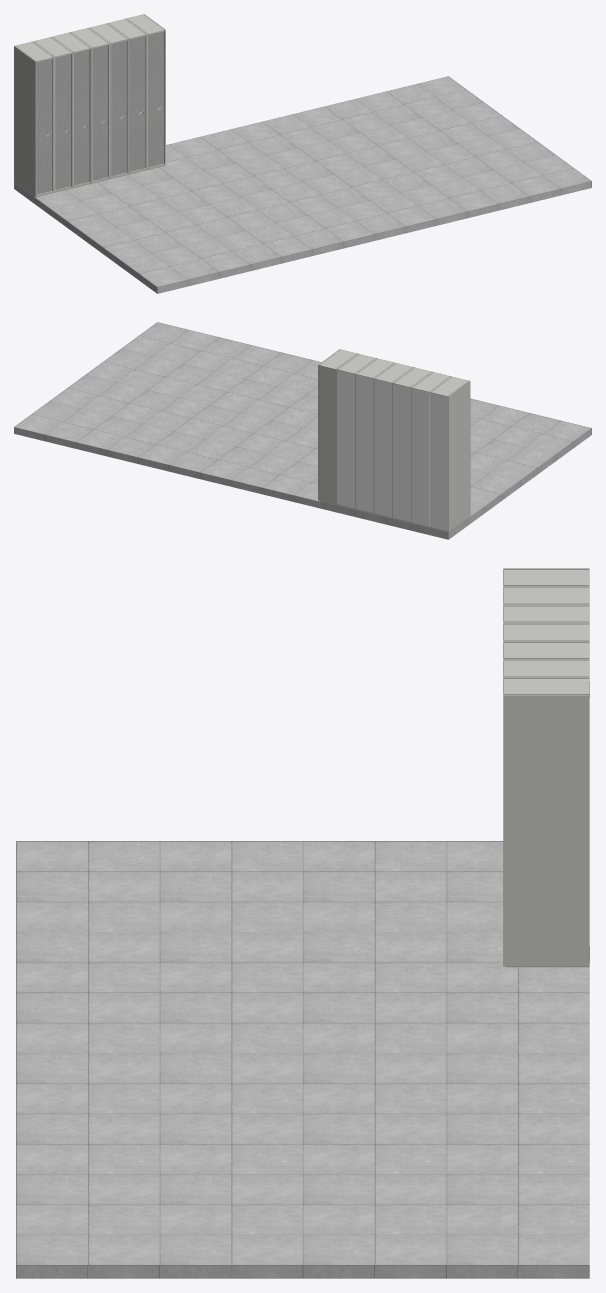
Rendered from modell.glb.
3 renders of one model, top to bottom at view 1: azimuth 30°, elevation 25°; view 2: azimuth 150°, elevation 25°; view 3: azimuth 270°, elevation 25°, orthographic. The views are drawn at different scales.
Size of the model in its own units: 7003 by 2203 by 4003.
11 materials, 4 textured.
